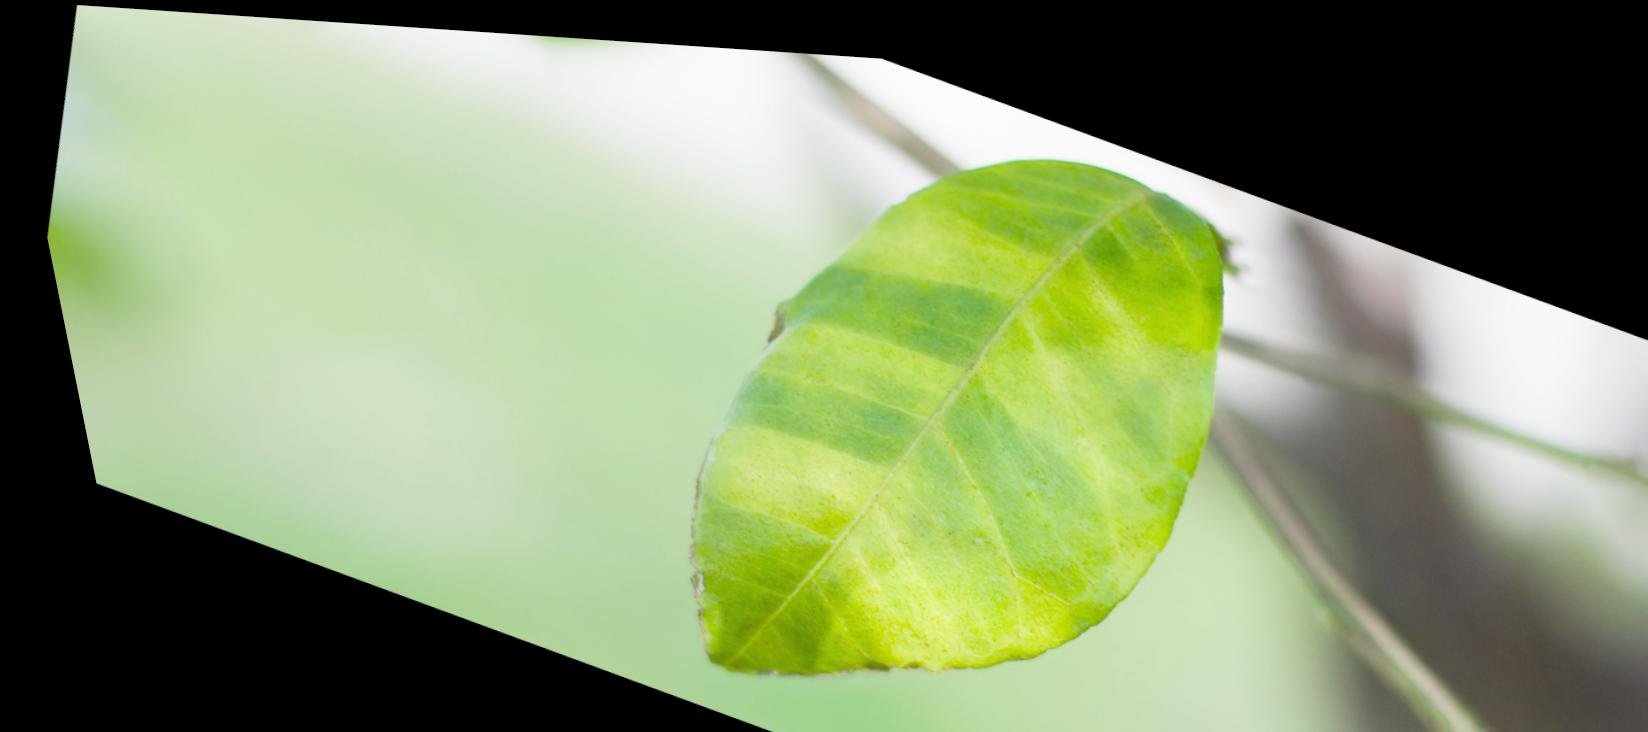Citrus Greening: (545, 28, 1330, 732)
